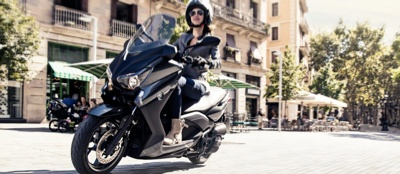helmet: (183, 1, 215, 32)
